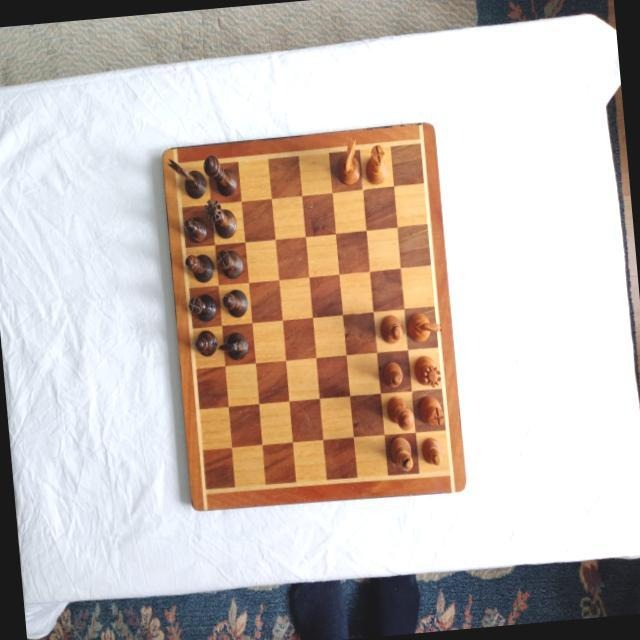black-bishop: (184, 252, 215, 284), (219, 288, 248, 320)
black-king: (203, 152, 237, 198)
black-knight: (167, 155, 207, 200), (216, 331, 249, 362)
black-pawn: (182, 214, 208, 243), (194, 328, 218, 357)
black-queen: (203, 196, 237, 240)
black-rook: (213, 248, 244, 280), (187, 292, 217, 322)
white-bishop: (388, 435, 414, 473), (377, 313, 402, 345)
white-king: (386, 394, 414, 432)
white-knight: (334, 134, 362, 186), (406, 311, 442, 344)
white-pawn: (421, 437, 443, 467), (381, 359, 403, 388)
white-queen: (413, 353, 443, 389)
white-rook: (362, 143, 386, 185), (418, 395, 444, 429)
